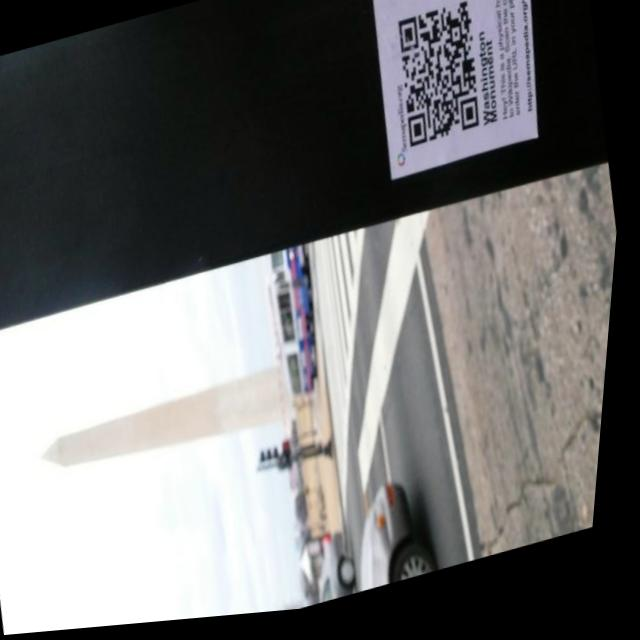qrcode: (391, 8, 496, 156)
